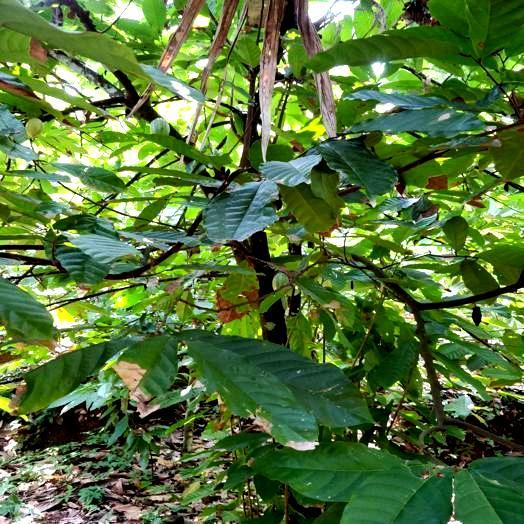Potassium: (188, 338, 316, 448), (114, 335, 177, 413)
